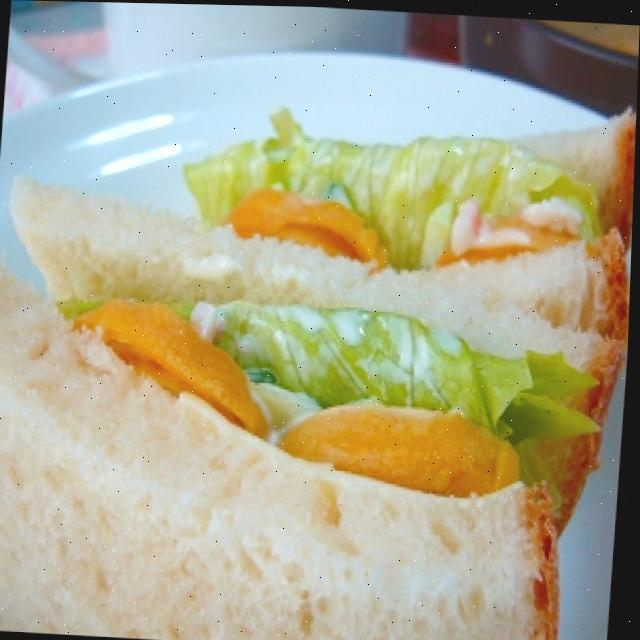三明治: (0, 79, 638, 640)
